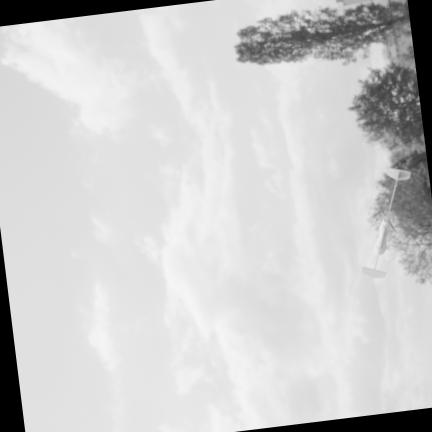Shahed: (359, 166, 413, 278)
